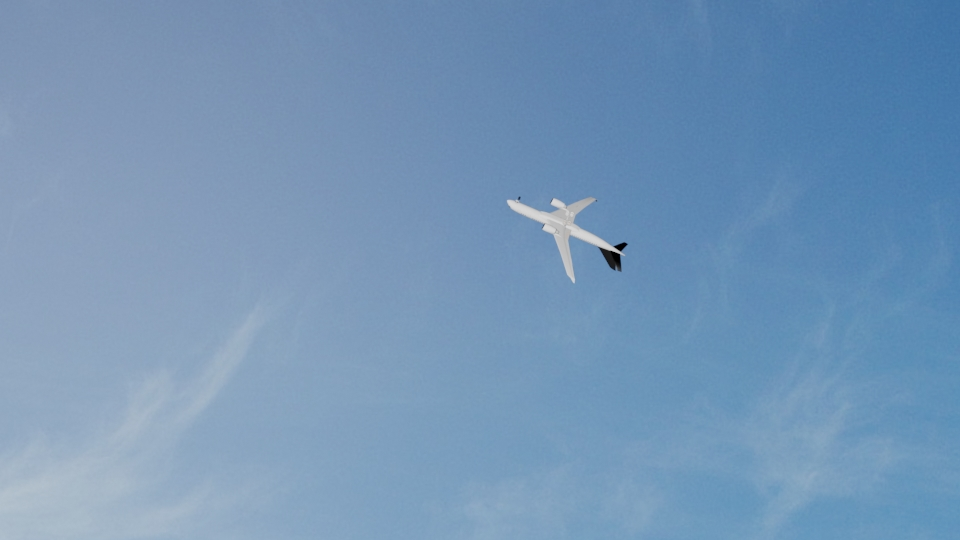plane: (506, 191, 629, 287)
